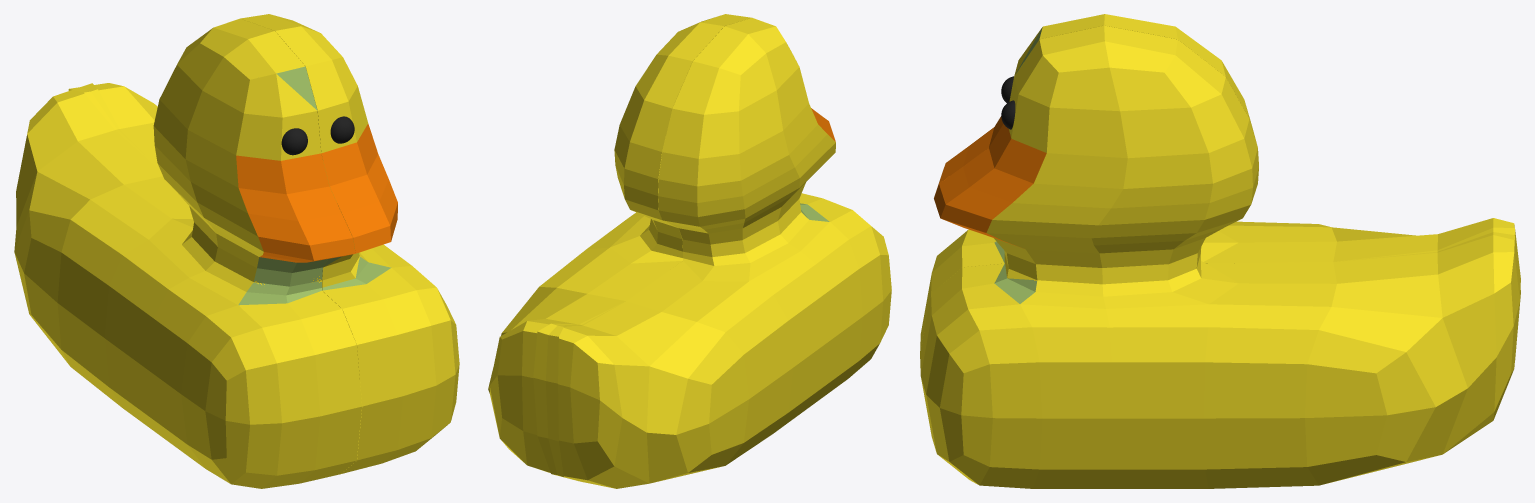
Rendered from PatitoAmarillo.fbx.
3 renders of one model, left to right at view 1: azimuth 30°, elevation 25°; view 2: azimuth 150°, elevation 25°; view 3: azimuth 270°, elevation 25°, orthographic. The views are drawn at different scales.
Parts seen in each view (by area): view 1: Cube; view 2: Cube; view 3: Cube.
Boxes of the visible parts, x1=… form: Cube: x1=14, y1=14, x2=459, y2=488; Cube: x1=488, y1=14, x2=891, y2=488; Cube: x1=920, y1=14, x2=1520, y2=488.
Size of the model in its own units: 298 by 460 by 595.
1 material, 1 textured.
